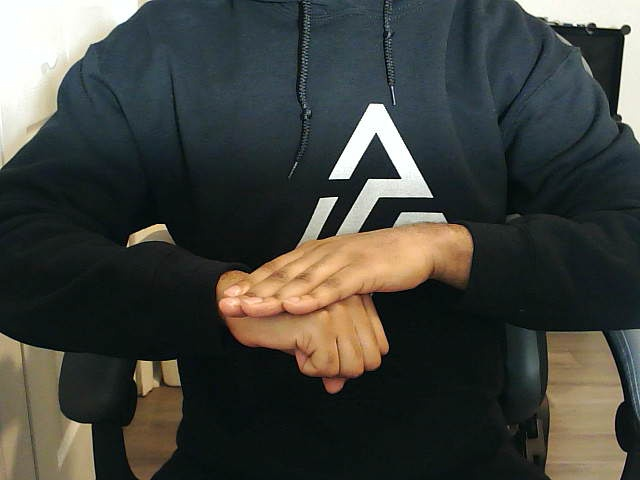Dog: (216, 221, 471, 394)
